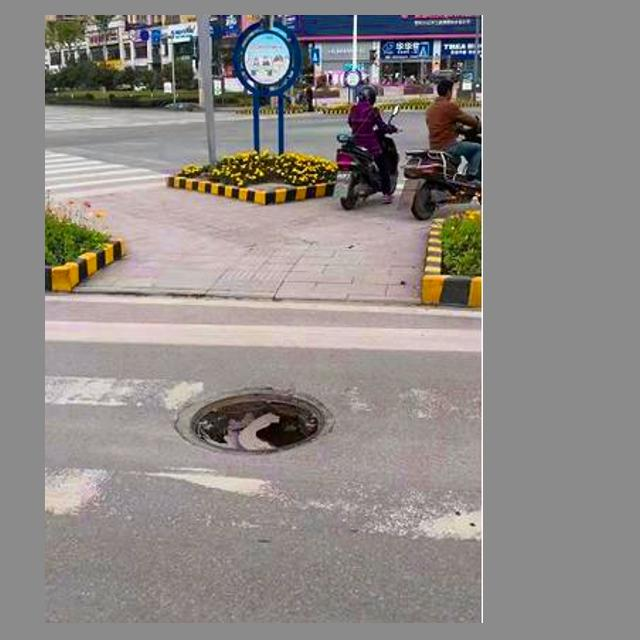broke: (159, 364, 345, 475)
